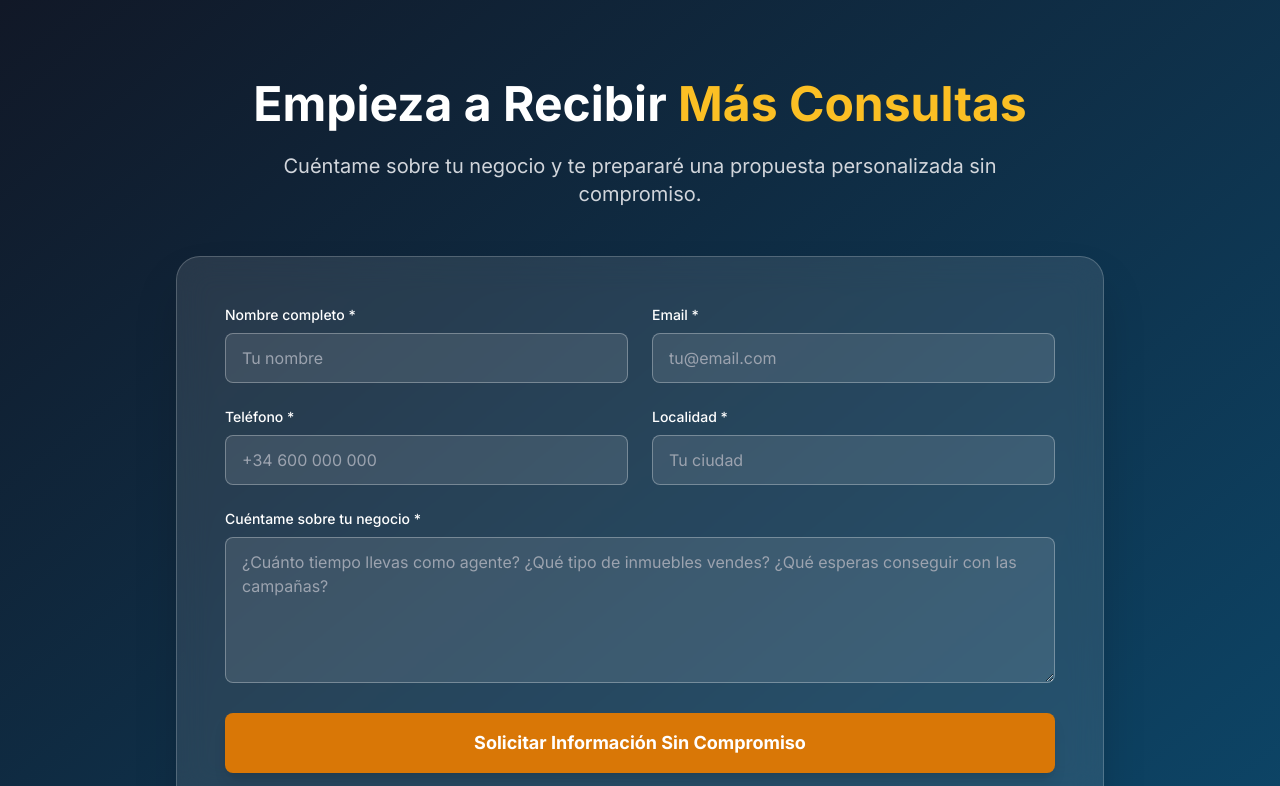
Contact Component › shows validation errors for empty fields
Click the button "Solicitar Información Sin Compromiso" at (640, 743), box x1=225 y1=713 x2=1055 y2=773
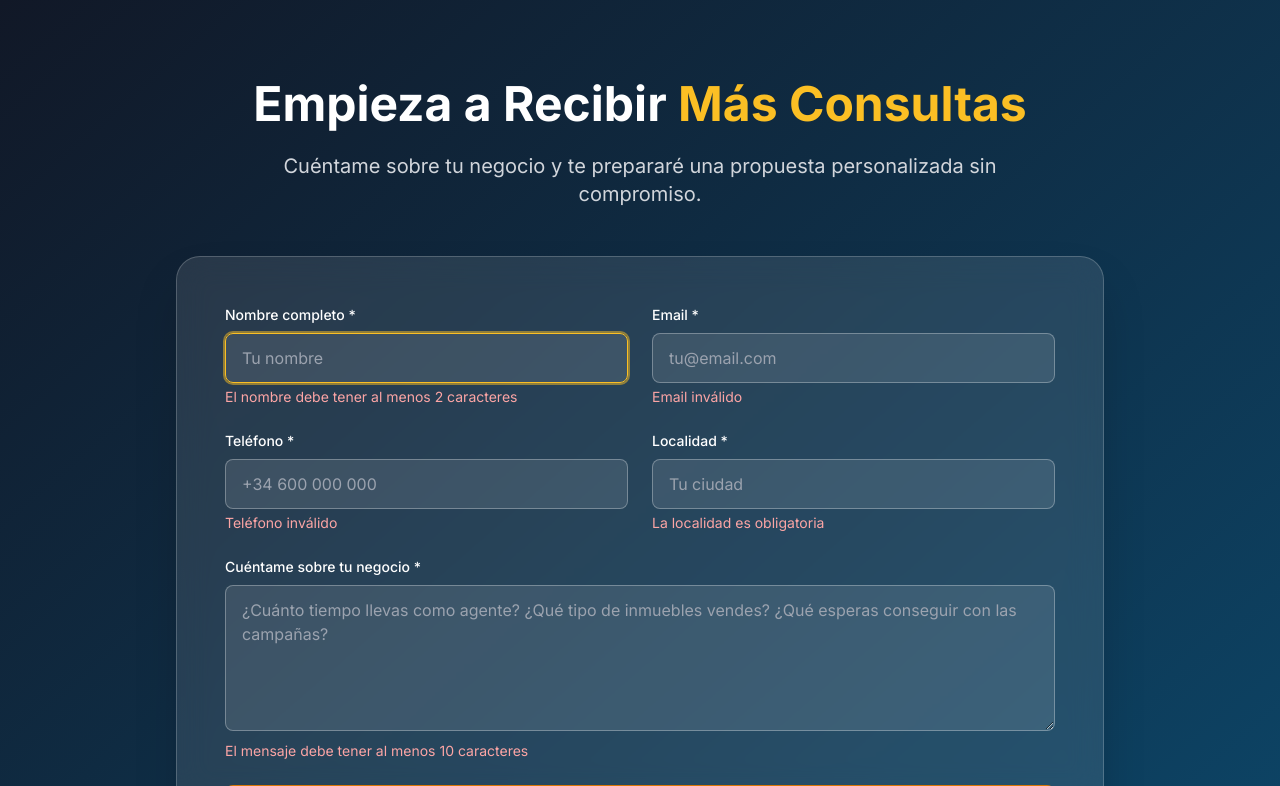
Now the text "El nombre debe tener al menos 2 caracteres" is shown, box x1=225 y1=388 x2=518 y2=405
